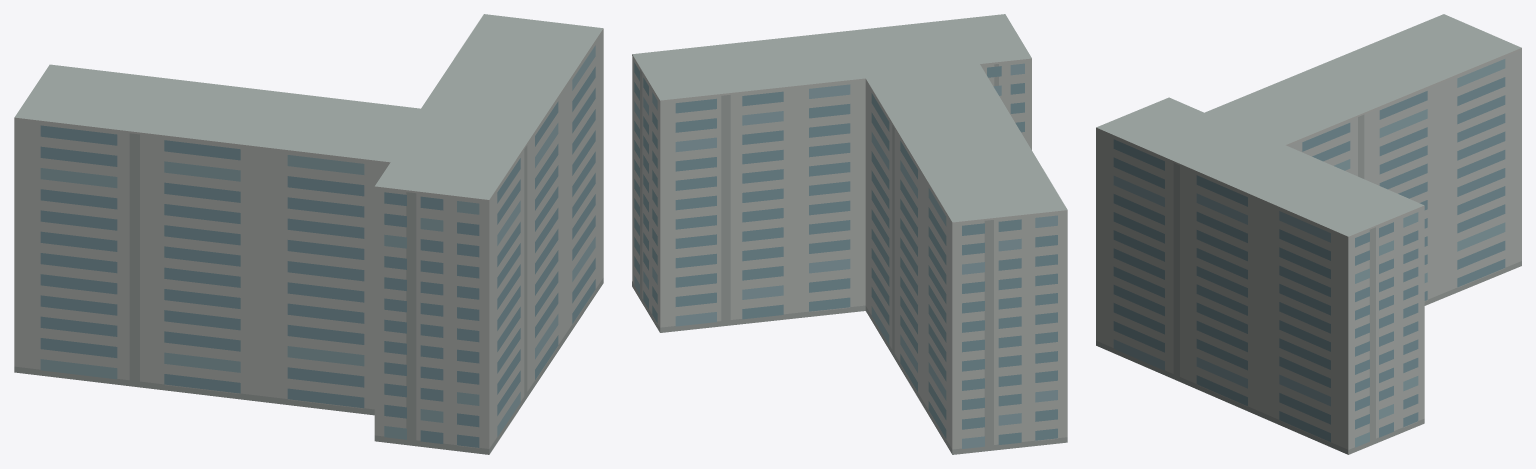
Rendered from residential-9a2977cf-2d8d-42fb-866b-a27433ff5b9a.glb.
3 views of the same model, side by side, from view 1: azimuth 30°, elevation 25°; view 2: azimuth 150°, elevation 25°; view 3: azimuth 270°, elevation 25° (orthographic). The views are drawn at different scales.
Visible parts, largest first — view 1: residential-9a2977cf-2d8d-42fb-866b-a27433ff5b9a.tmp; view 2: residential-9a2977cf-2d8d-42fb-866b-a27433ff5b9a.tmp; view 3: residential-9a2977cf-2d8d-42fb-866b-a27433ff5b9a.tmp.
Boxes of the visible parts, <box> form: residential-9a2977cf-2d8d-42fb-866b-a27433ff5b9a.tmp: <box>14,14,603,454</box>; residential-9a2977cf-2d8d-42fb-866b-a27433ff5b9a.tmp: <box>632,14,1067,454</box>; residential-9a2977cf-2d8d-42fb-866b-a27433ff5b9a.tmp: <box>1096,14,1521,454</box>.
Bounding box in the file's own units: 70.09 × 32 × 56.61.
